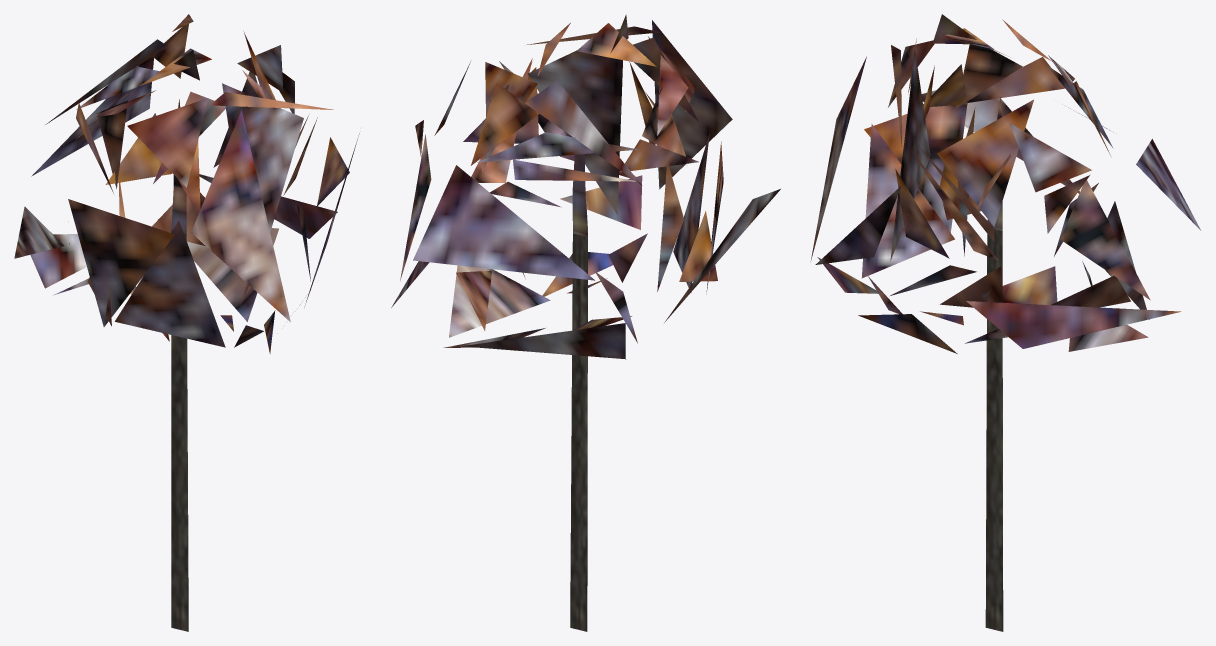
Rendered from Tree02.fbx.
3 views of the same model, side by side, from view 1: azimuth 30°, elevation 25°; view 2: azimuth 150°, elevation 25°; view 3: azimuth 270°, elevation 25° (orthographic).
Parts seen in each view (by area): view 1: Tree02; view 2: Tree02; view 3: Tree02.
Boxes of the visible parts, x1,y1,x2,y2 form: Tree02: (14,14,359,631); Tree02: (391,14,780,631); Tree02: (810,14,1200,631).
Size of the model in its own units: 595 by 1124 by 650.
